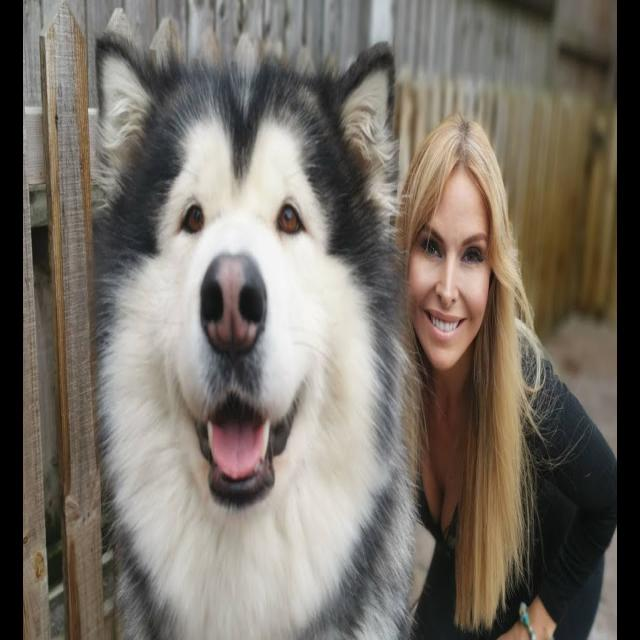ALASKAN_MALAMUTE: (67, 12, 408, 640)
